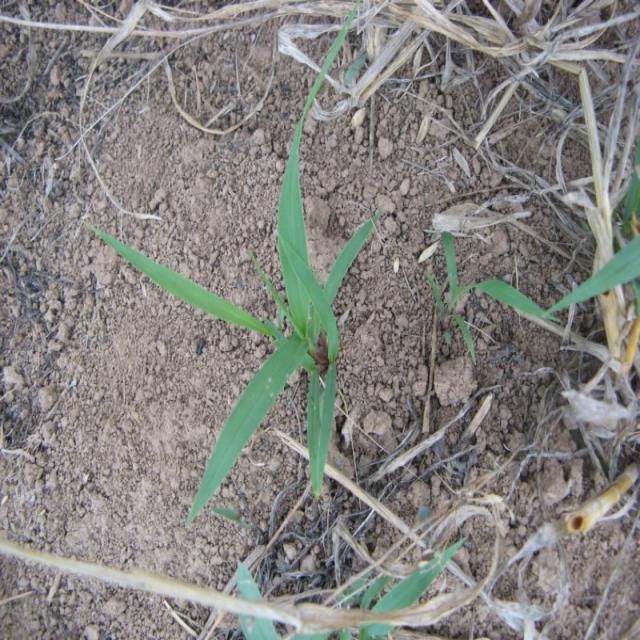bg: (93, 21, 378, 522)
